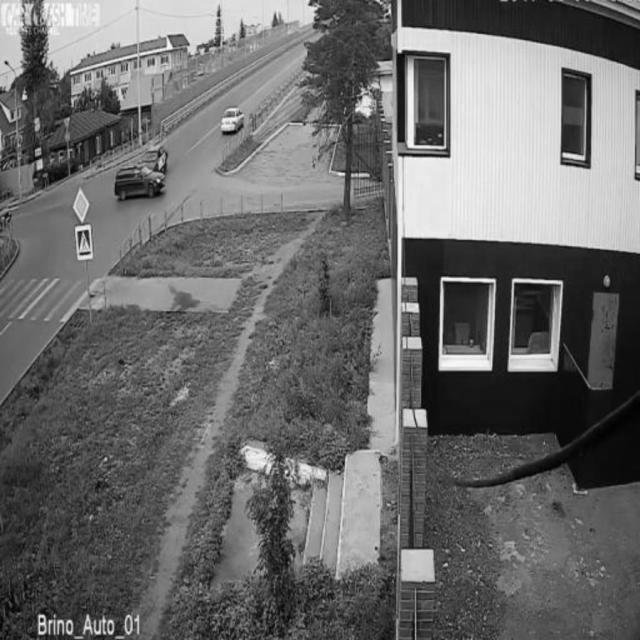vehicle: (114, 160, 162, 200), (221, 105, 246, 133), (143, 145, 170, 169)
